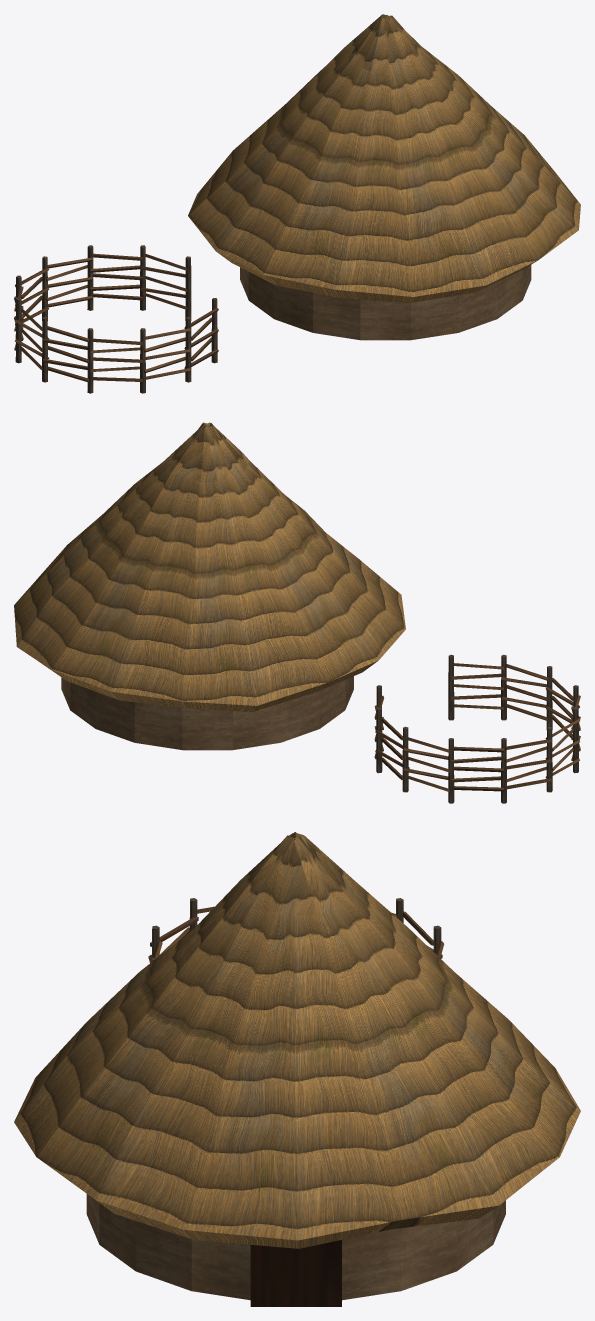
Rendered from capanna_tonda_piccola_b.glb.
3 views of the same model, one above another, from view 1: azimuth 30°, elevation 25°; view 2: azimuth 150°, elevation 25°; view 3: azimuth 270°, elevation 25° (orthographic). The views are drawn at different scales.
Parts seen in each view (by area): view 1: capanna_tonda_piccola_b; view 2: capanna_tonda_piccola_b; view 3: capanna_tonda_piccola_b.
Boxes of the visible parts, x1,y1,x2,y2 form: capanna_tonda_piccola_b: [14, 14, 580, 393]; capanna_tonda_piccola_b: [14, 422, 580, 803]; capanna_tonda_piccola_b: [14, 832, 580, 1306].
Bounding box in the file's own units: 9.63 × 4.69 × 6.22.
Materials: 5 (5 with a texture image).
